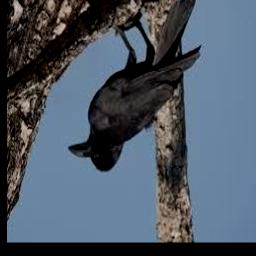Crow: (66, 0, 201, 173)
